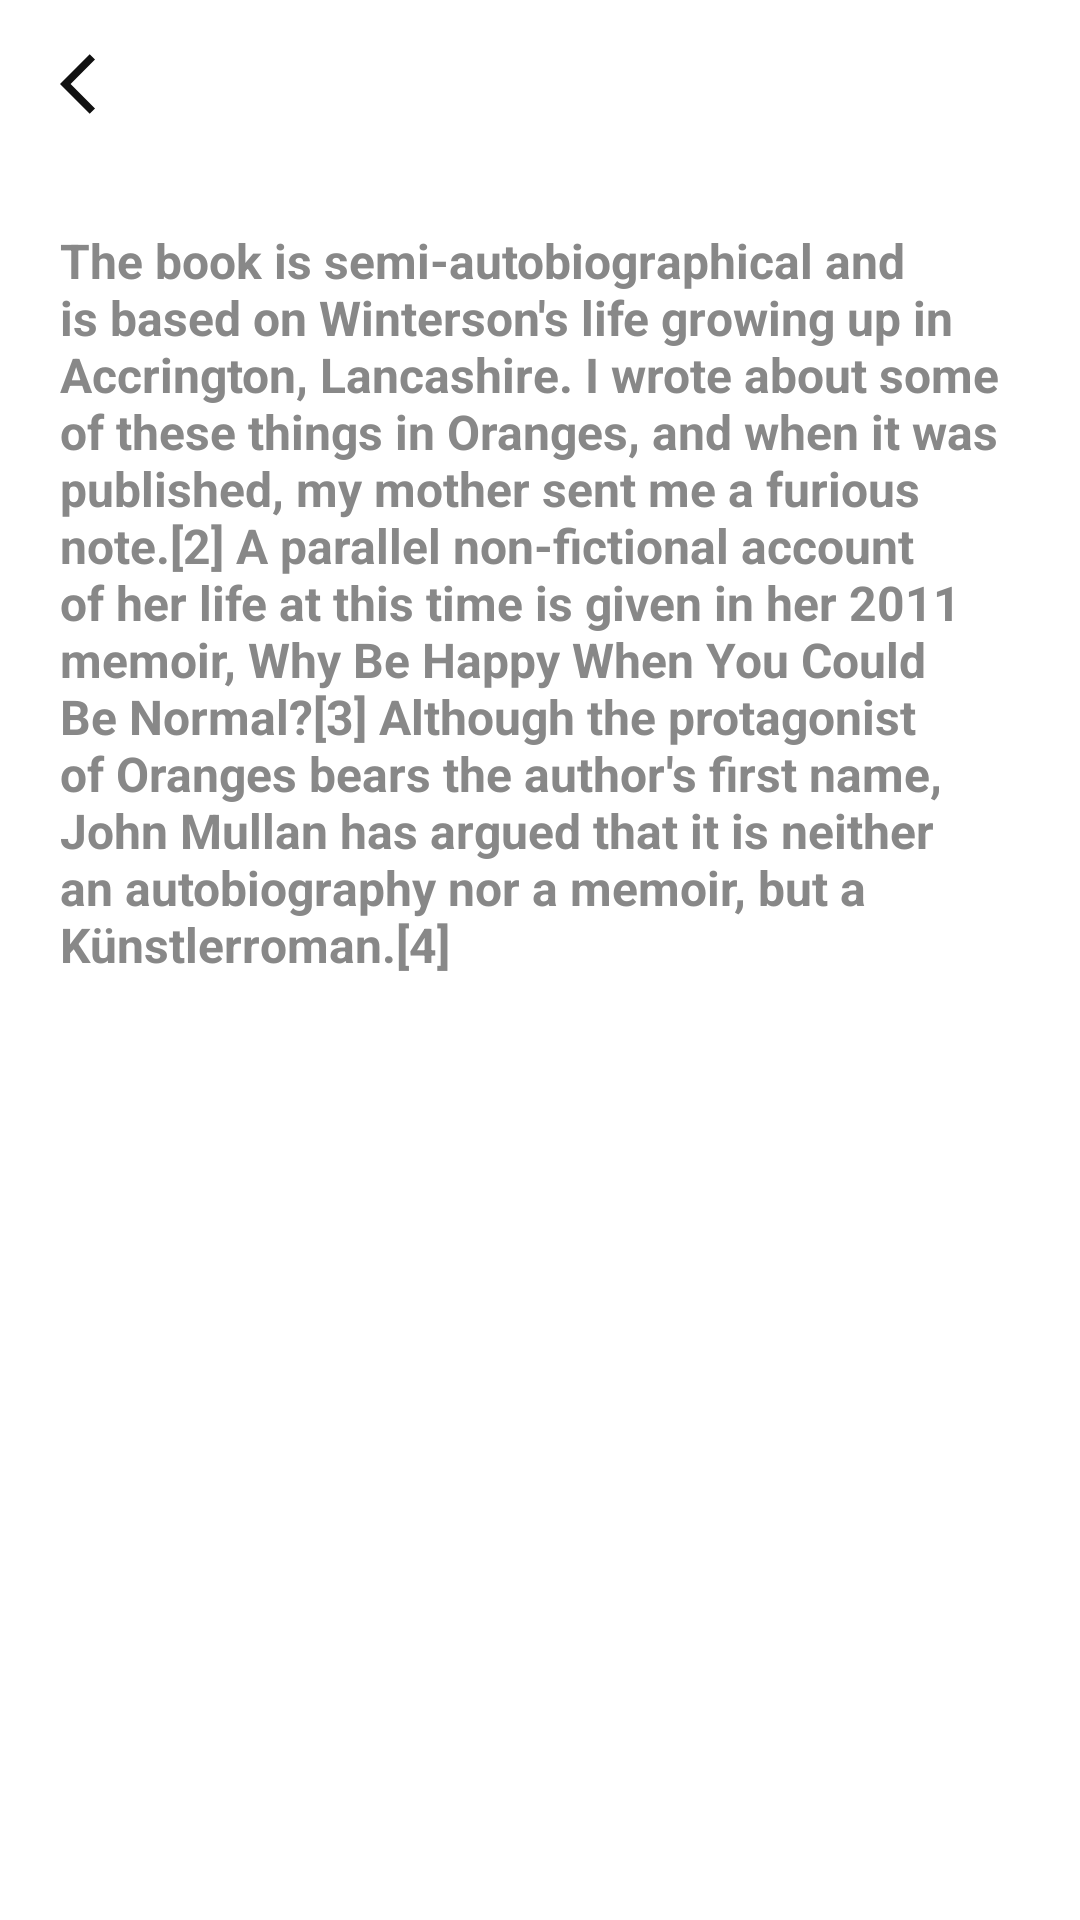

Icons on this 1080px x 1920px Android screen, each with the point to tap as (x=x, y=y):
arrow back secondary: (x=77, y=84)
